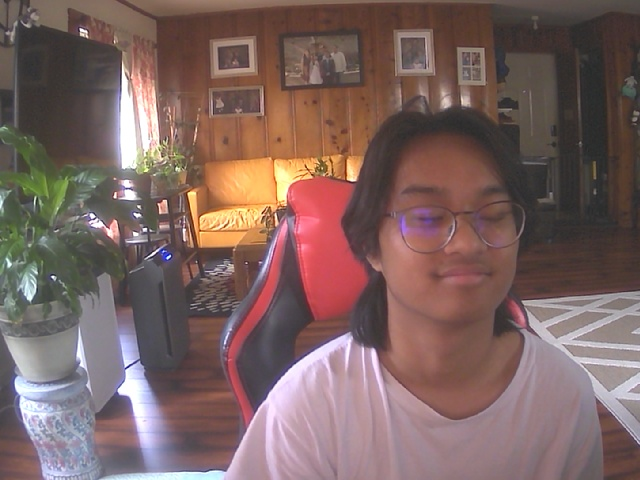happy: (361, 119, 530, 327)
